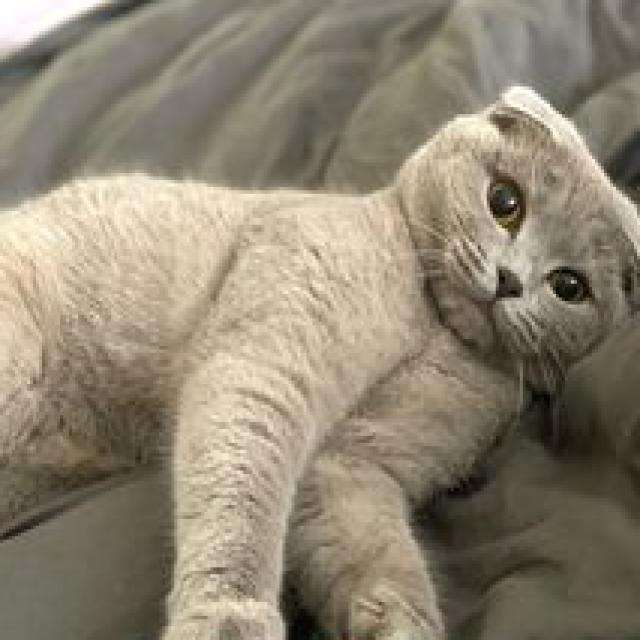Scottish Fold: (0, 79, 640, 640)
